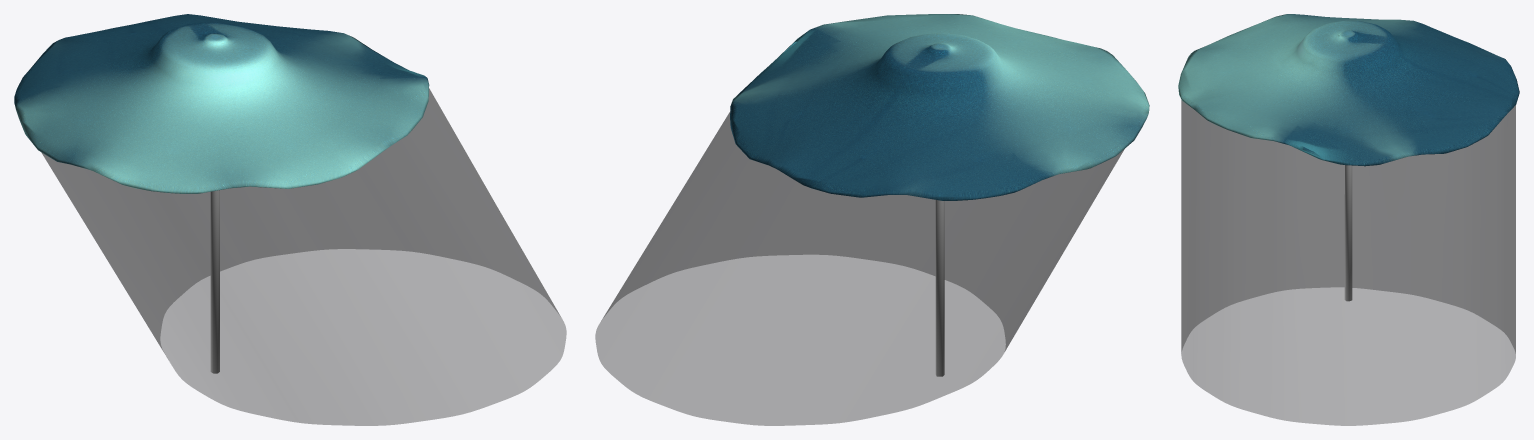
File: parasol3_old.fbx
3 renders of one model, left to right at view 1: azimuth 30°, elevation 25°; view 2: azimuth 150°, elevation 25°; view 3: azimuth 270°, elevation 25°, orthographic. The views are drawn at different scales.
Visible parts, largest first — view 1: Circle.002, Circle, Circle.001; view 2: Circle.002, Circle, Circle.001; view 3: Circle.002, Circle, Circle.001.
Boxes of the visible parts, x1,y1,x2,y2 form: Circle.002: (41,88,566,425); Circle: (14,14,429,193); Circle.001: (210,190,219,373); Circle.002: (595,112,1124,425); Circle: (730,14,1149,200); Circle.001: (935,200,944,376); Circle.002: (1181,100,1515,425); Circle: (1178,14,1519,166); Circle.001: (1344,165,1352,301).
Size of the model in its own units: 473 by 302 by 350.
Materials: 3 (1 with a texture image).
